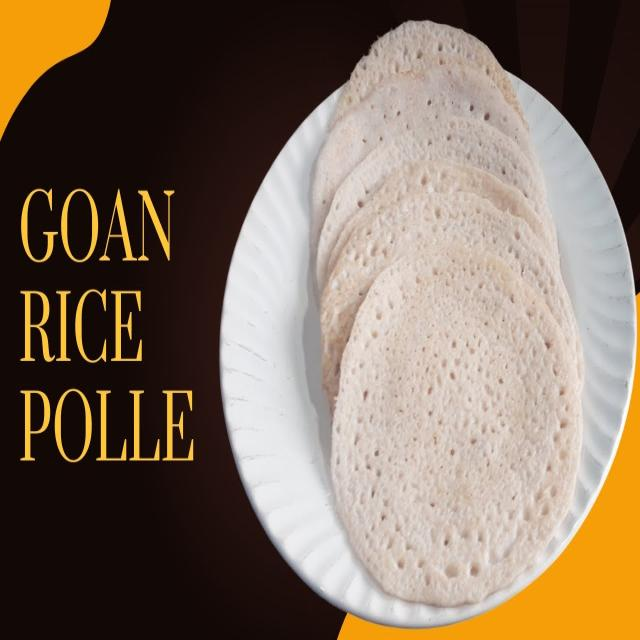DOSA: (332, 240, 580, 604), (320, 190, 569, 400)
